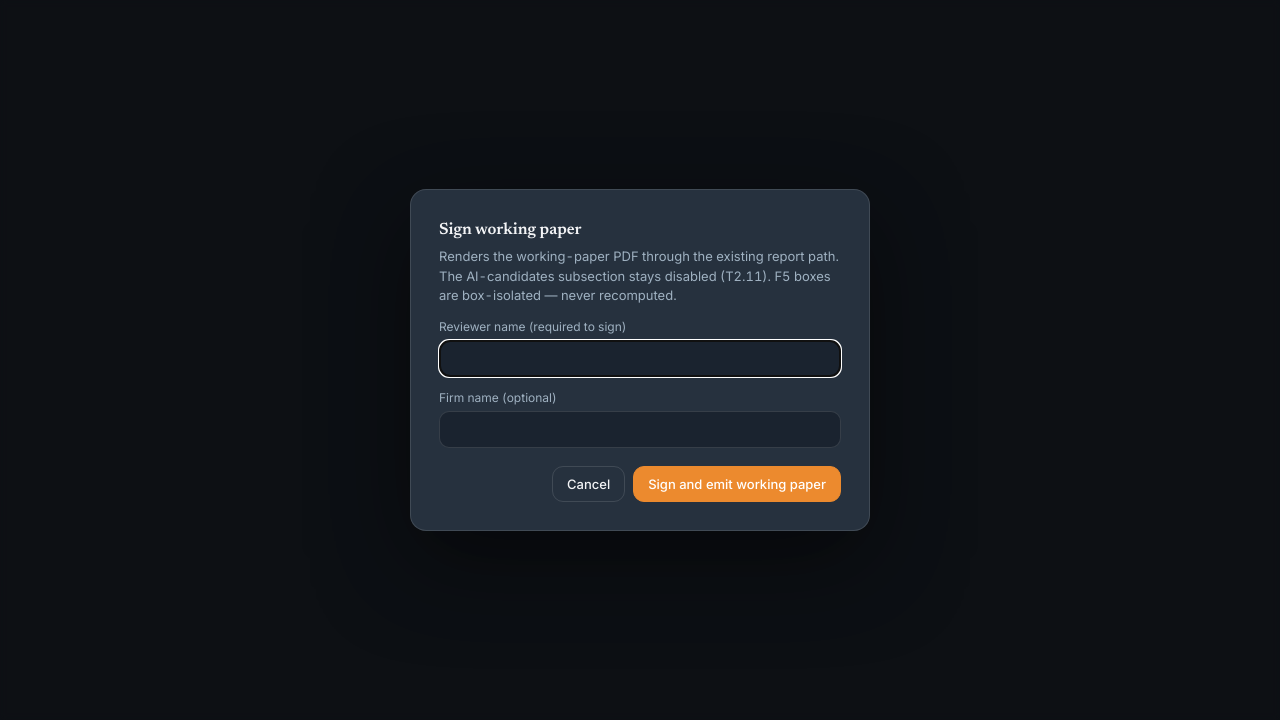
Test: SignModal working-paper download (C2) › renders a Download link to GET /working-paper with the encoded path after sign-off
The image size is (1280, 720).
Type "Collin Tan" into the 1st field at (640, 358), box left=439, top=340, right=841, bottom=376
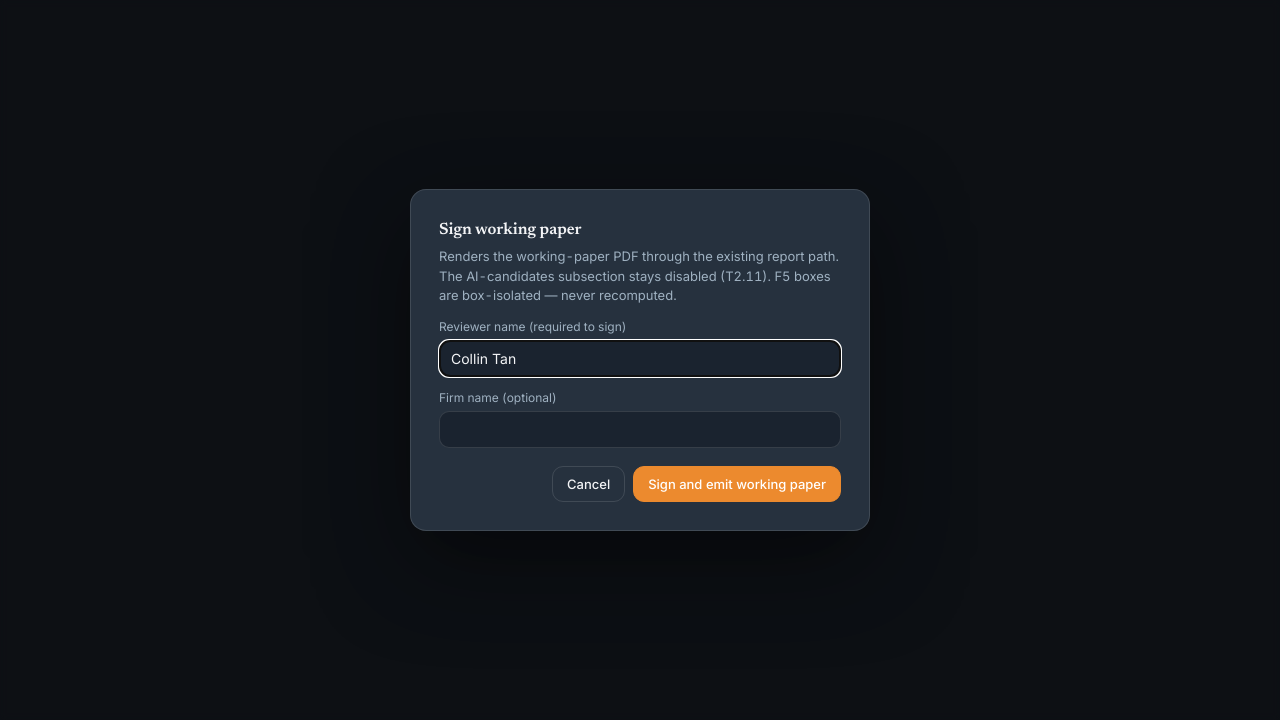
Click the button "Sign and emit working paper" at (737, 484), box left=633, top=466, right=841, bottom=502
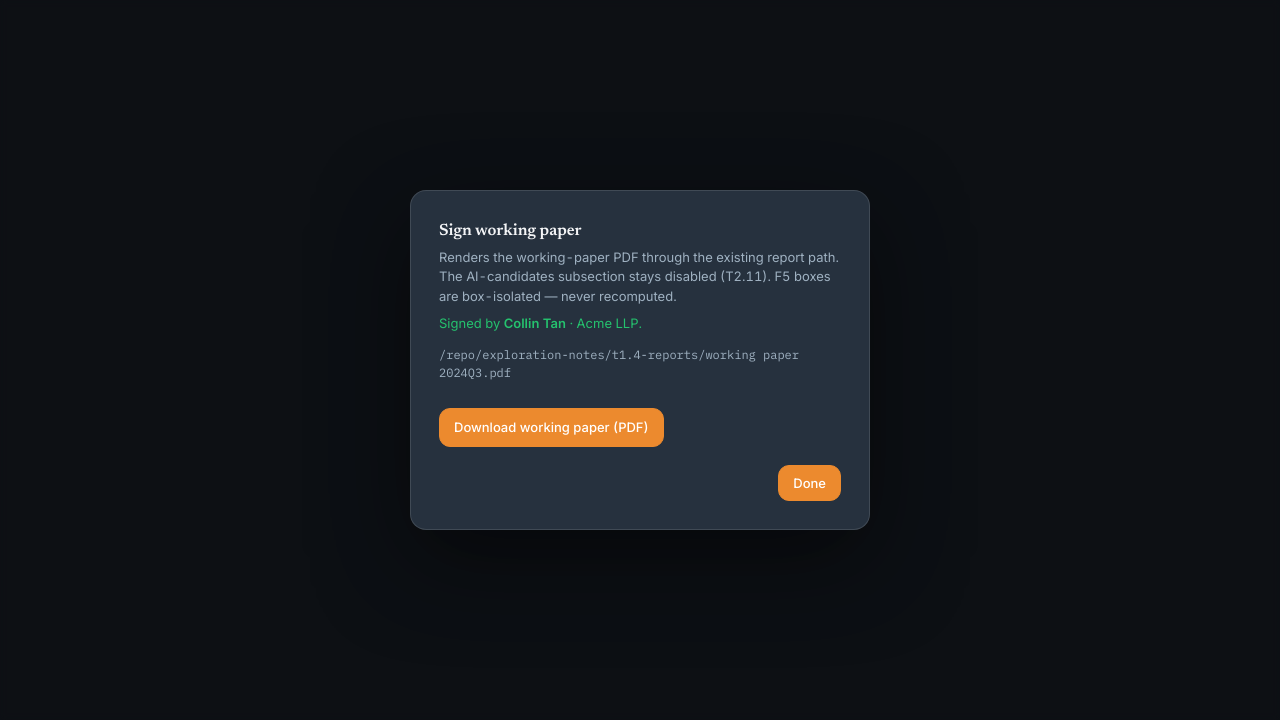
Expected: the text "/repo/exploration-notes/t1.4-reports/working paper 2024Q3.pdf" is shown, left=439, top=346, right=841, bottom=382
